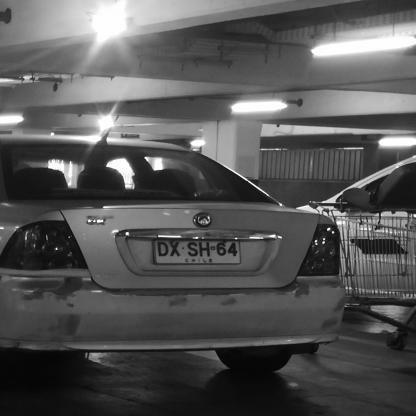Patente: (156, 239, 245, 264)
